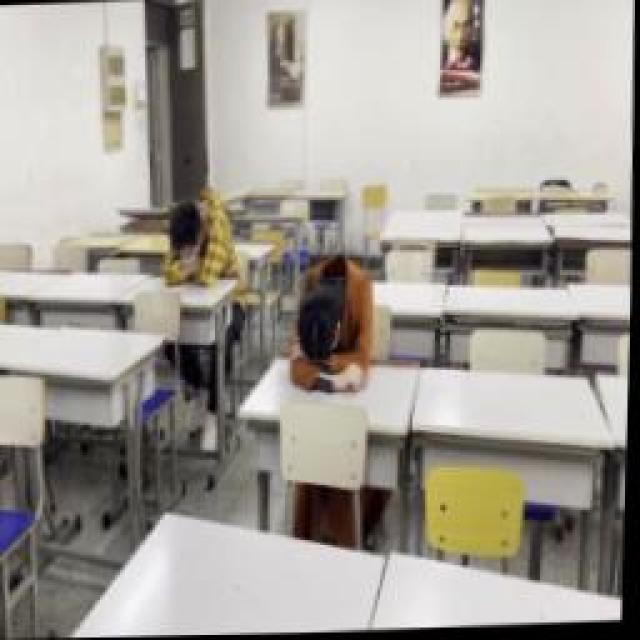sleep: (287, 252, 375, 390), (162, 188, 240, 290)
